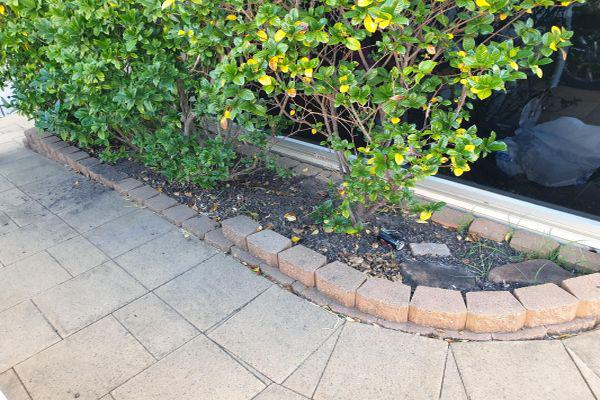Plastic Bottle: (377, 231, 405, 251)
